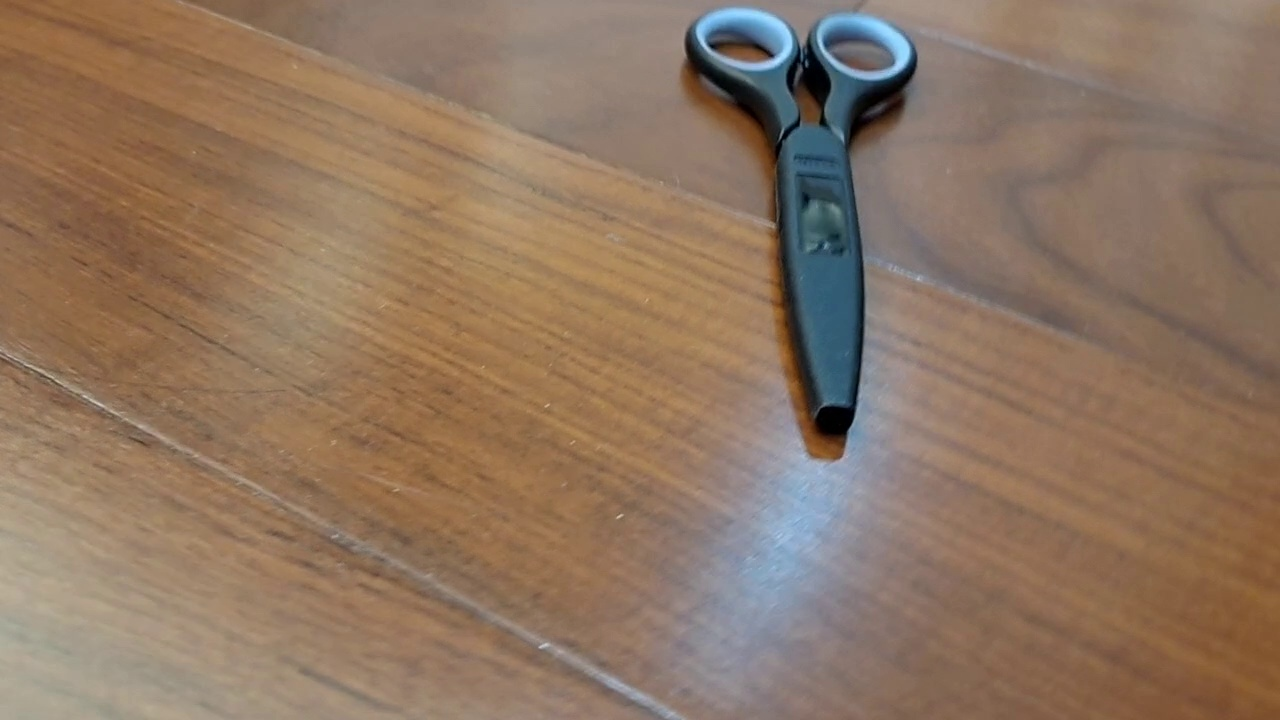scissors: (683, 5, 917, 436)
